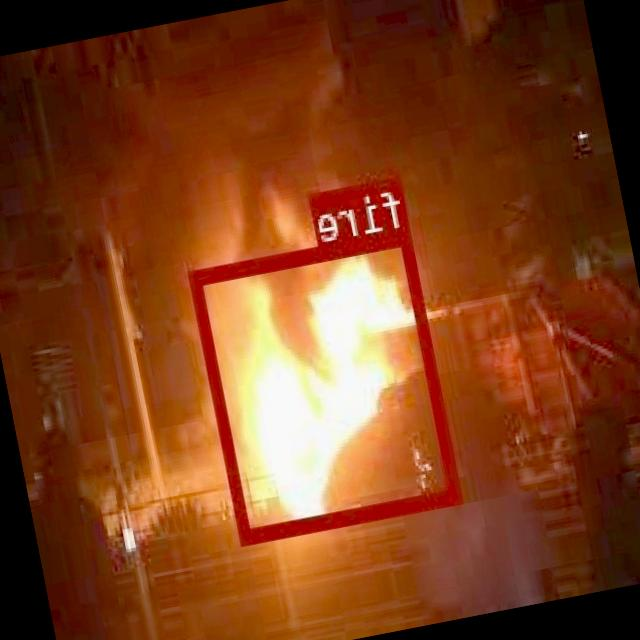fire: (190, 226, 463, 541)
